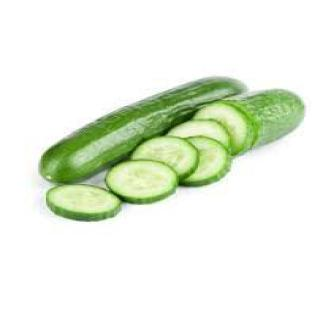Cucumber: (40, 77, 245, 182), (219, 89, 304, 146), (194, 102, 254, 154), (107, 160, 177, 203), (132, 137, 199, 179), (46, 186, 121, 220), (181, 137, 231, 186), (167, 120, 231, 148)
